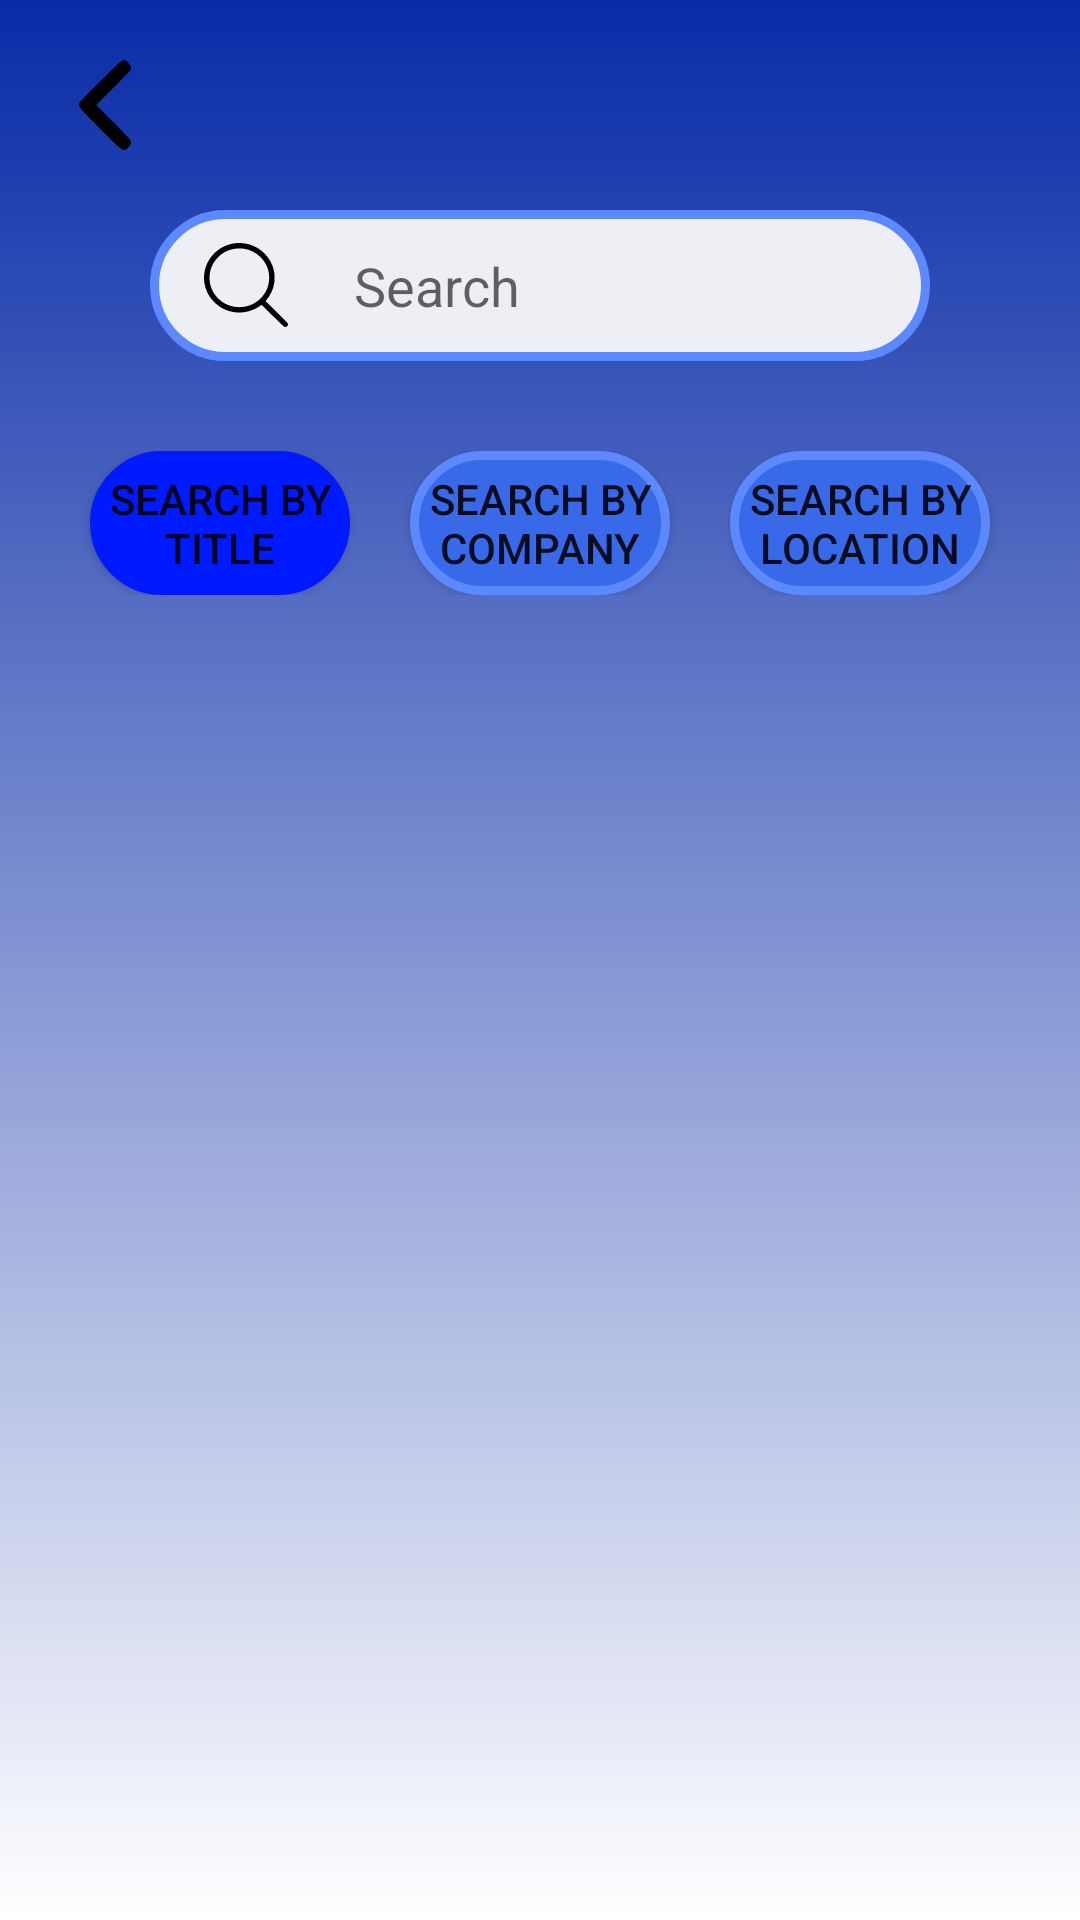

Where to tap for icons on this 1080px x 1920px app screen, as [x,y]:
back: [104,105]
